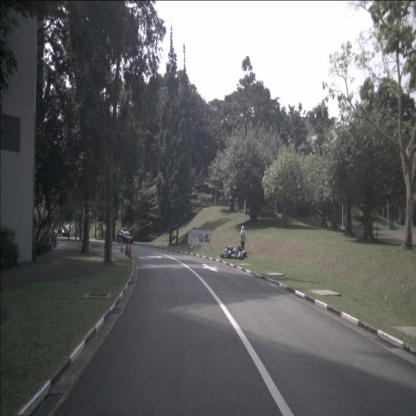human-pedestrian-adult: (240, 226, 247, 255)
movable_object-trafficcone: (127, 244, 132, 258), (129, 245, 133, 261), (120, 240, 124, 252), (125, 244, 129, 256), (124, 244, 127, 254)
vehicle-car: (117, 229, 134, 245), (58, 226, 69, 236)
